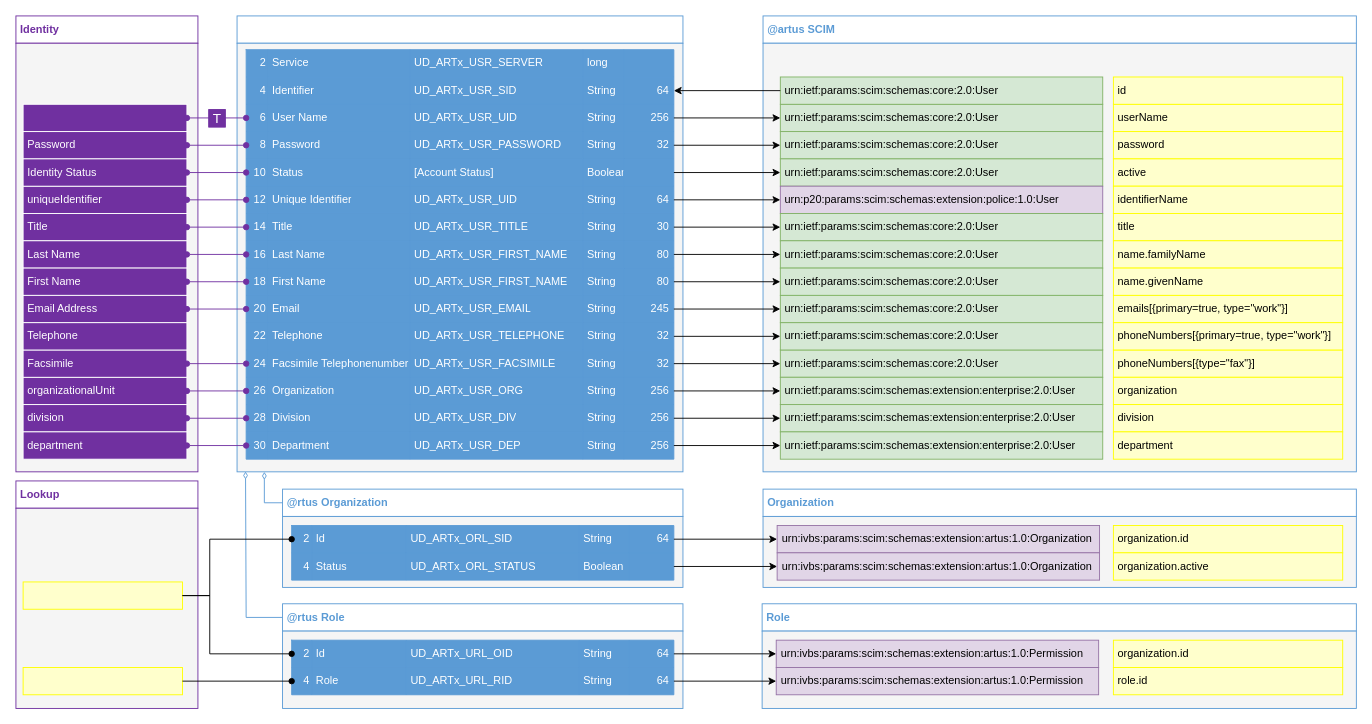
The diagram is 1372 pixels wide and 724 high, and some of its shapes have lost their labels. Here are the shapes that lost their labels. From the top down, the centre of each, then its label:
pixel 459 29: @rtus Account
pixel 104 117: User Login
pixel 102 595: @artus.Organization
pixel 102 681: @artus.Role
